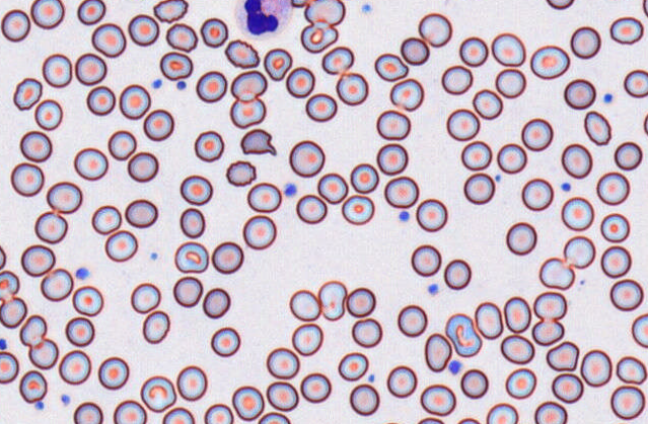GRAN: (230, 0, 295, 40)
PLT: (448, 359, 465, 376), (282, 181, 298, 198), (76, 266, 90, 281), (396, 210, 411, 223), (59, 394, 72, 406), (602, 91, 613, 105), (151, 77, 163, 89), (360, 2, 372, 14), (428, 283, 439, 296), (560, 180, 571, 192), (0, 337, 8, 353), (149, 251, 160, 262), (33, 401, 44, 411), (176, 80, 186, 90), (495, 172, 504, 182)
RBC: (140, 375, 176, 412), (289, 140, 325, 177), (530, 45, 569, 79), (610, 385, 645, 420), (91, 22, 126, 57), (580, 349, 612, 387), (242, 214, 276, 249), (418, 12, 452, 47), (538, 257, 574, 290), (231, 385, 264, 421), (420, 383, 456, 416), (300, 22, 338, 53), (10, 162, 44, 196), (491, 32, 525, 66), (596, 171, 630, 205), (73, 147, 108, 180), (58, 349, 91, 384), (561, 196, 594, 231), (46, 181, 82, 213), (229, 97, 266, 128), (230, 70, 267, 101), (40, 267, 73, 301), (609, 278, 643, 311), (446, 108, 480, 141), (389, 78, 423, 111), (424, 332, 452, 372), (20, 244, 55, 276), (176, 365, 207, 401), (474, 301, 503, 339), (104, 229, 137, 262), (521, 177, 553, 211), (174, 241, 208, 273), (384, 176, 418, 208), (119, 84, 150, 119), (561, 143, 592, 178), (304, 0, 345, 26), (34, 211, 67, 243), (291, 323, 323, 356), (266, 347, 299, 379), (336, 72, 368, 105), (521, 118, 553, 151), (563, 235, 595, 268), (211, 241, 243, 274), (19, 130, 52, 162), (74, 52, 106, 85), (415, 198, 447, 231), (545, 340, 579, 371), (505, 221, 536, 255), (376, 109, 410, 140), (246, 182, 281, 212), (503, 296, 531, 333), (195, 70, 227, 102), (463, 172, 495, 204), (127, 14, 159, 46), (376, 143, 408, 175), (98, 356, 129, 389), (179, 174, 212, 205), (143, 108, 174, 141), (600, 245, 631, 278), (341, 194, 374, 225), (500, 334, 534, 364), (42, 53, 72, 87), (224, 39, 259, 68), (551, 372, 583, 403), (505, 367, 536, 399), (317, 172, 348, 204), (289, 289, 320, 321), (386, 365, 417, 397), (410, 244, 441, 276), (570, 26, 601, 58), (563, 78, 595, 109), (0, 9, 30, 42), (397, 304, 427, 337), (124, 198, 157, 228), (533, 291, 567, 320), (263, 47, 292, 81), (30, 0, 64, 29), (374, 52, 408, 81), (583, 110, 611, 145), (300, 372, 331, 403), (72, 285, 103, 316), (127, 151, 158, 182), (165, 22, 197, 52), (266, 381, 298, 411), (460, 140, 492, 170), (349, 383, 379, 415), (295, 194, 327, 224), (305, 92, 337, 122), (194, 130, 224, 162), (321, 45, 354, 74), (159, 51, 192, 80), (13, 77, 42, 110), (19, 369, 47, 403), (609, 16, 643, 44), (28, 338, 58, 369), (495, 68, 526, 98), (173, 276, 203, 307), (130, 282, 160, 313), (496, 143, 527, 173), (472, 88, 502, 119), (351, 317, 382, 347), (285, 66, 314, 98), (142, 310, 170, 343), (91, 204, 121, 234), (615, 355, 646, 384), (337, 352, 368, 381), (441, 65, 472, 94), (532, 318, 564, 346), (19, 314, 47, 346), (86, 85, 115, 115), (65, 316, 94, 346), (107, 130, 136, 160), (350, 163, 379, 193), (210, 327, 240, 356), (600, 213, 630, 242), (346, 287, 375, 317), (459, 36, 488, 66), (443, 258, 471, 289), (202, 287, 230, 318), (34, 99, 62, 130), (0, 296, 27, 328), (400, 36, 429, 65), (460, 368, 488, 398), (200, 17, 228, 47), (614, 141, 642, 170), (225, 160, 256, 186), (179, 207, 205, 238), (153, 0, 188, 23), (113, 399, 146, 423), (534, 401, 567, 423), (77, 0, 105, 25), (486, 402, 518, 423), (623, 69, 647, 97), (73, 401, 103, 423), (0, 350, 19, 383), (203, 403, 233, 423), (631, 313, 647, 348), (162, 406, 194, 423), (0, 270, 19, 298), (257, 411, 290, 423), (545, 0, 574, 9), (417, 416, 444, 423), (0, 245, 6, 269), (456, 417, 480, 423), (290, 0, 310, 7), (643, 112, 648, 135), (642, 0, 648, 17)
Schistocyte: (444, 313, 484, 359), (318, 280, 349, 322), (240, 127, 279, 158)
